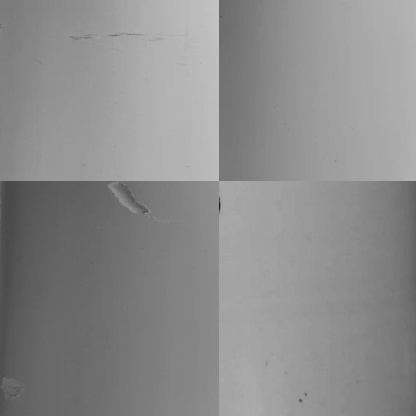sunshang: (104, 179, 152, 219), (1, 374, 28, 401)
